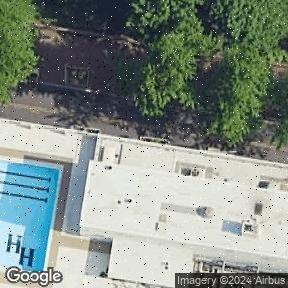vegetation: (118, 0, 288, 147), (0, 0, 36, 103)
